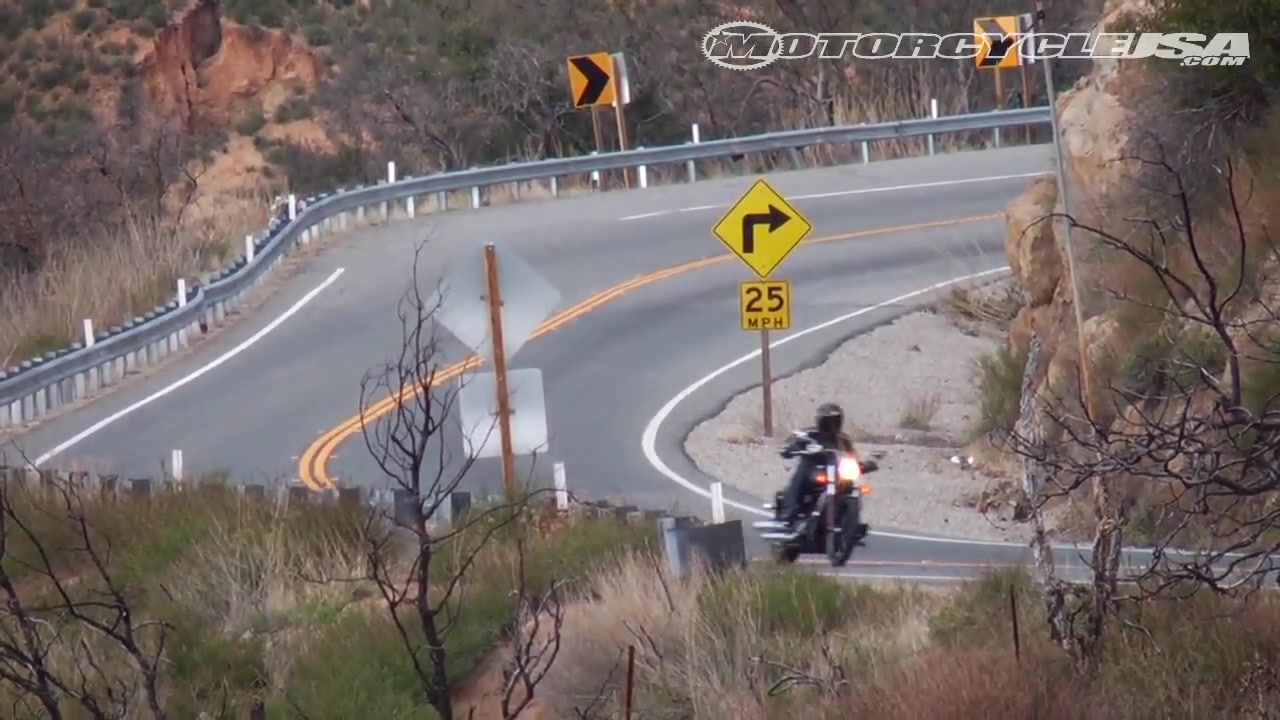motorbike: (764, 437, 880, 567)
